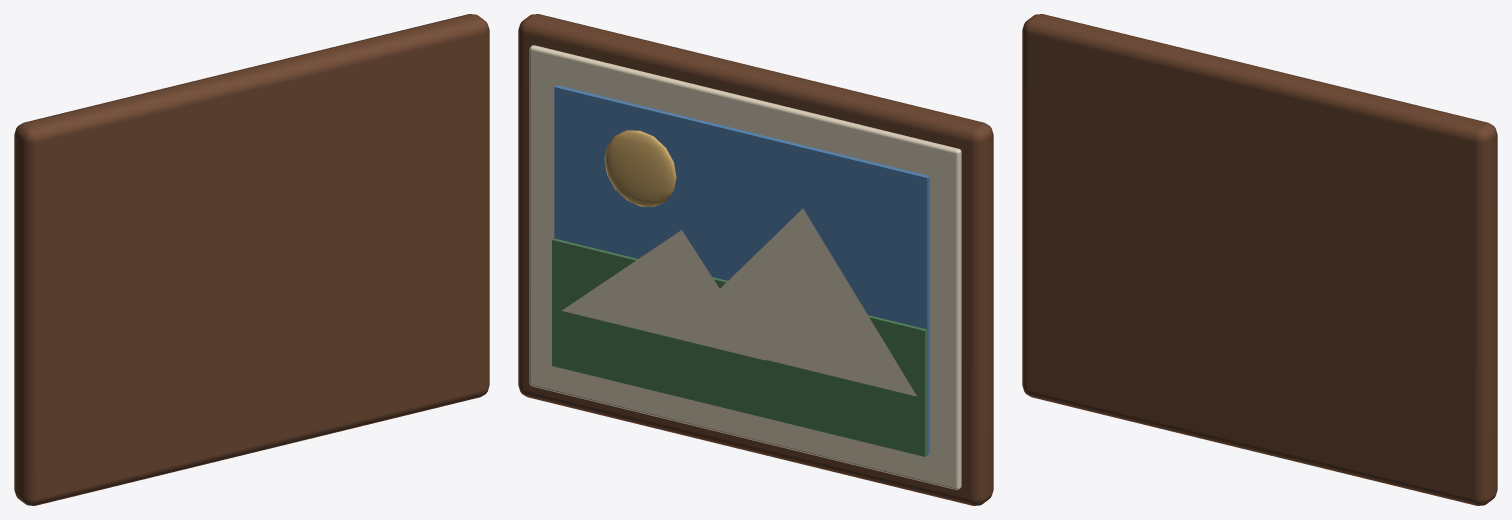
File: PictureFrame.fbx
3 views of the same model, side by side, from view 1: azimuth 30°, elevation 25°; view 2: azimuth 150°, elevation 25°; view 3: azimuth 330°, elevation 25° (orthographic).
Parts seen in each view (by area): view 1: PictureFrame; view 2: PictureFrame; view 3: PictureFrame.
Part boxes in pixels (<box>): PictureFrame: <box>14,14,489,505</box>; PictureFrame: <box>518,14,993,505</box>; PictureFrame: <box>1022,14,1497,505</box>.
Bounding box in the file's own units: 1.55 × 1.2 × 0.178.
Materials: 1 (1 with a texture image).
